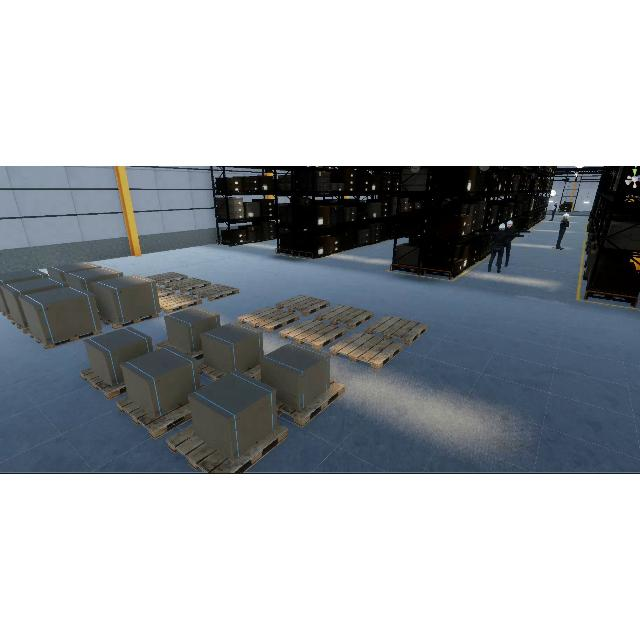wooden_pallet: (166, 423, 289, 474), (115, 395, 192, 441), (276, 379, 346, 427), (329, 331, 404, 370), (279, 318, 347, 350), (364, 314, 428, 346), (236, 306, 300, 333), (78, 368, 127, 401), (316, 303, 375, 330), (28, 329, 103, 349), (275, 294, 330, 316), (99, 313, 160, 330), (159, 292, 202, 314), (189, 283, 240, 301), (163, 277, 212, 293), (144, 271, 188, 285)
